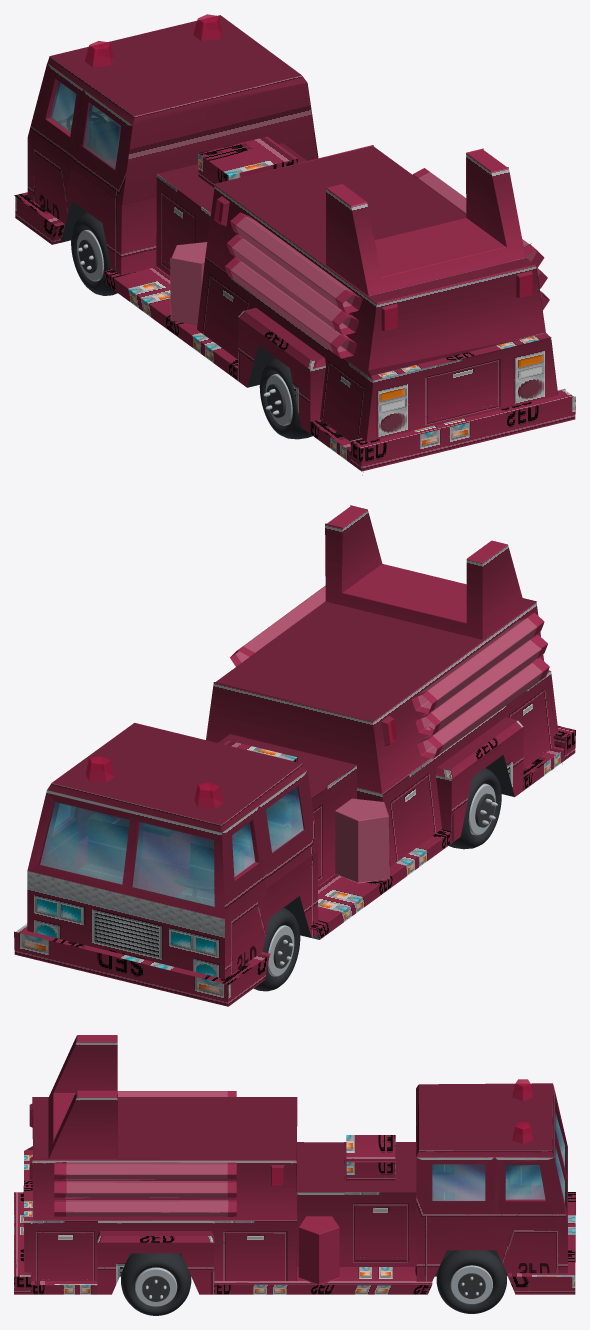
Rendered from car-cfire_v.glb.
3 views of the same model, one above another, from view 1: azimuth 30°, elevation 25°; view 2: azimuth 150°, elevation 25°; view 3: azimuth 270°, elevation 25° (orthographic). The views are drawn at different scales.
Visible parts, largest first — view 1: cFire_vShape, cFire_vShape.001, cFire_vShape.003, DoorDRotShape.031, cFire_vShape.004, cFire_vShape.005, cFire_vShape.006, Rounded tire.053, Rounded tire.052, DoorDRotShape.033, Alloy rim.052; view 2: cFire_vShape, cFire_vShape.003, cFire_vShape.001, cFire_vShape.005, cFire_vShape.004, DoorDRotShape.031, Rounded tire.053, cFire_vShape.006, Rounded tire.052, DoorPRotShape.035, DoorDRotShape.033; view 3: cFire_vShape, cFire_vShape.003, cFire_vShape.002, cFire_vShape.001, DoorPRotShape.034, cFire_vShape.005, Rounded tire.055, Rounded tire.054, cFire_vShape.004, DoorPRotShape.036, cFire_vShape.006, Alloy rim.054 (+3 smaller).
Part boxes in pixels (left/top/right/bottom): cFire_vShape: left=47, top=15, right=557, bottom=475; cFire_vShape.001: left=27, top=56, right=317, bottom=433; cFire_vShape.003: left=14, top=136, right=575, bottom=471; DoorDRotShape.031: left=34, top=71, right=80, bottom=204; cFire_vShape.004: left=60, top=112, right=275, bottom=387; cFire_vShape.005: left=53, top=83, right=121, bottom=168; cFire_vShape.006: left=85, top=14, right=532, bottom=330; Rounded tire.053: left=259, top=358, right=312, bottom=439; Rounded tire.052: left=71, top=212, right=117, bottom=295; DoorDRotShape.033: left=50, top=81, right=76, bottom=132; Alloy rim.052: left=77, top=230, right=103, bottom=281; cFire_vShape: left=27, top=505, right=562, bottom=918; cFire_vShape.003: left=14, top=720, right=575, bottom=1006; cFire_vShape.001: left=39, top=727, right=523, bottom=978; cFire_vShape.005: left=40, top=787, right=303, bottom=906; cFire_vShape.004: left=75, top=755, right=514, bottom=939; DoorDRotShape.031: left=228, top=812, right=266, bottom=957; Rounded tire.053: left=449, top=767, right=501, bottom=849; cFire_vShape.006: left=85, top=719, right=396, bottom=808; Rounded tire.052: left=254, top=907, right=300, bottom=991; DoorPRotShape.035: left=43, top=820, right=78, bottom=872; DoorDRotShape.033: left=232, top=822, right=255, bottom=876; cFire_vShape: left=23, top=1035, right=567, bottom=1285; cFire_vShape.003: left=14, top=1135, right=575, bottom=1294; cFire_vShape.002: left=416, top=1157, right=567, bottom=1281; cFire_vShape.001: left=97, top=1084, right=566, bottom=1294; DoorPRotShape.034: left=499, top=1161, right=556, bottom=1259; cFire_vShape.005: left=432, top=1112, right=564, bottom=1202; Rounded tire.055: left=436, top=1250, right=506, bottom=1313; Rounded tire.054: left=121, top=1253, right=191, bottom=1315; cFire_vShape.004: left=120, top=1144, right=566, bottom=1285; DoorPRotShape.036: left=505, top=1165, right=545, bottom=1199; cFire_vShape.006: left=272, top=1079, right=533, bottom=1185; Alloy rim.054: left=135, top=1267, right=177, bottom=1306.
Bounding box in the file's own units: 3.86 × 4.36 × 10.37.
10 materials, 7 textured.
